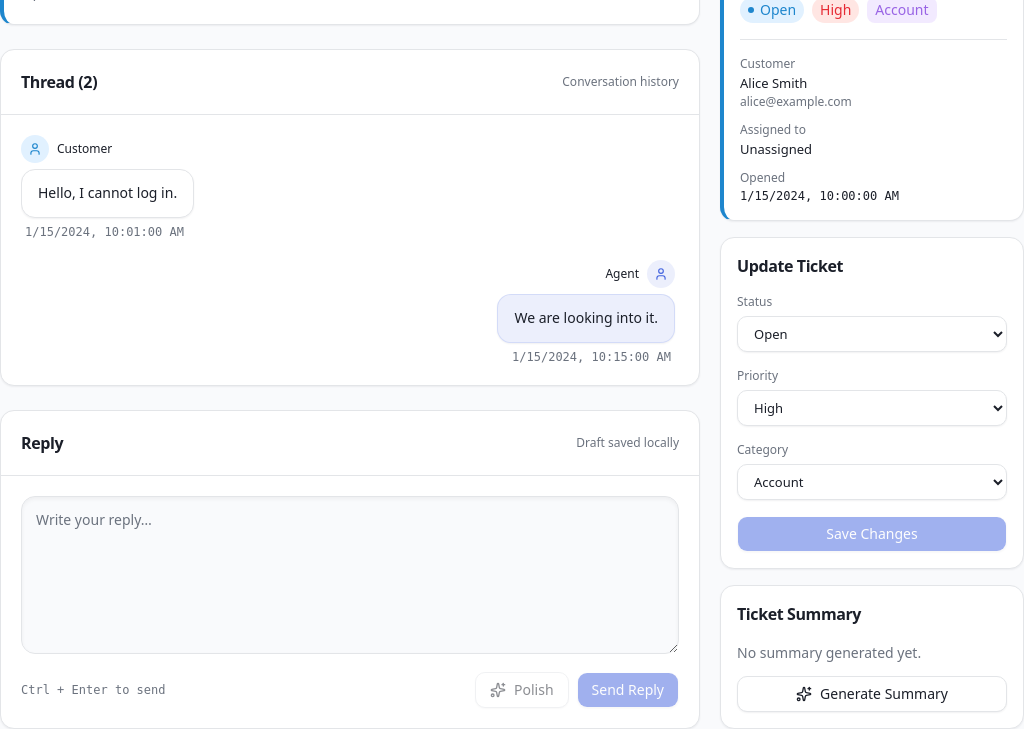
TicketDetail page › summary error is shown when the request fails
(page scrolled)
Click the button "Generate Summary" at [872, 694], box 737,676 -> 1007,712
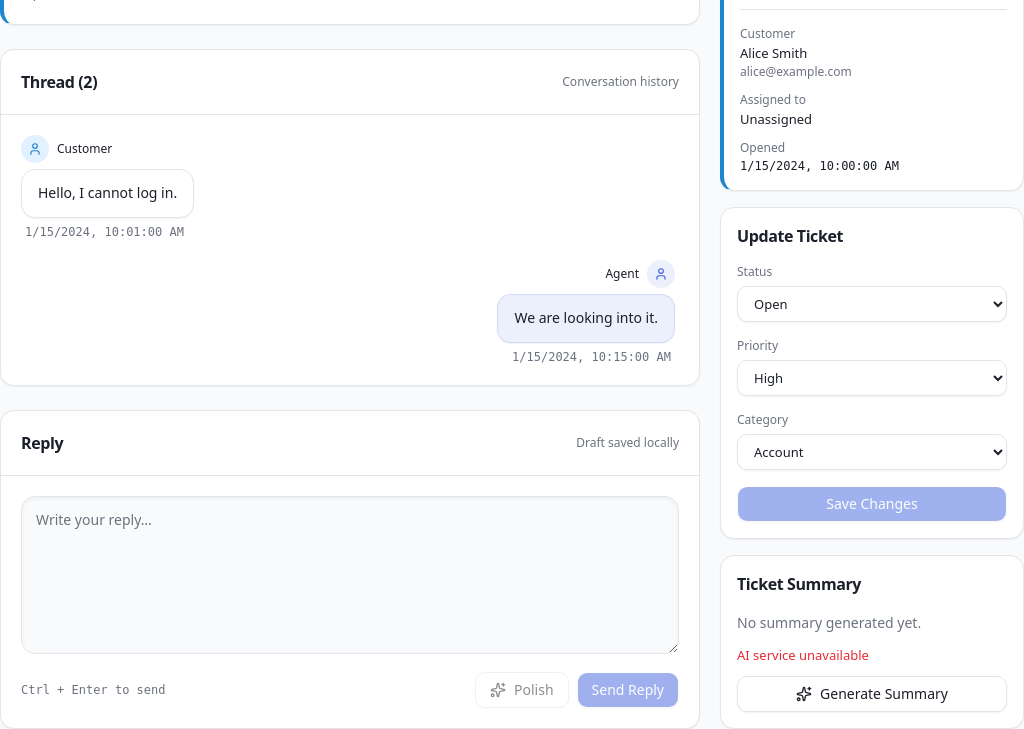
Check: the text "AI service unavailable" is shown, box 737,646 -> 869,664
